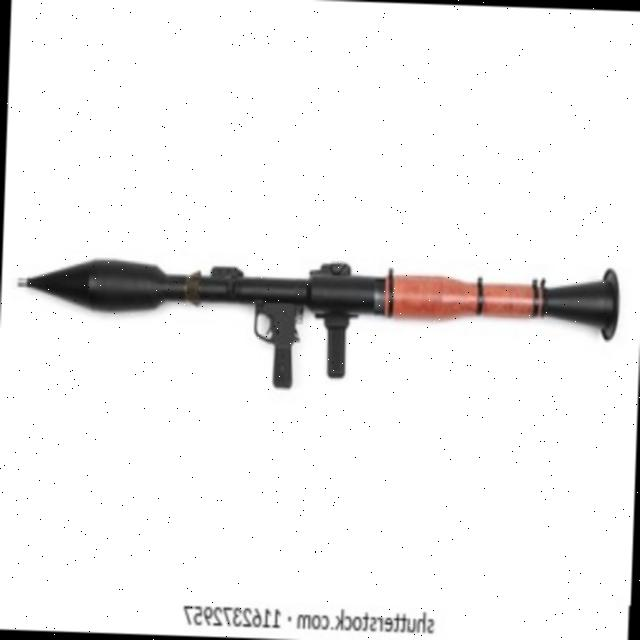Bazooka: (14, 210, 626, 400)
